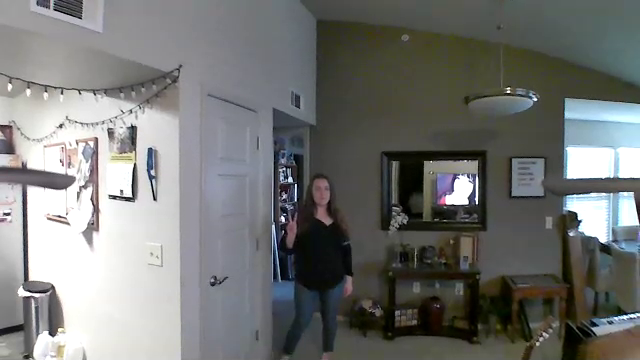peace: (280, 208, 302, 242)
